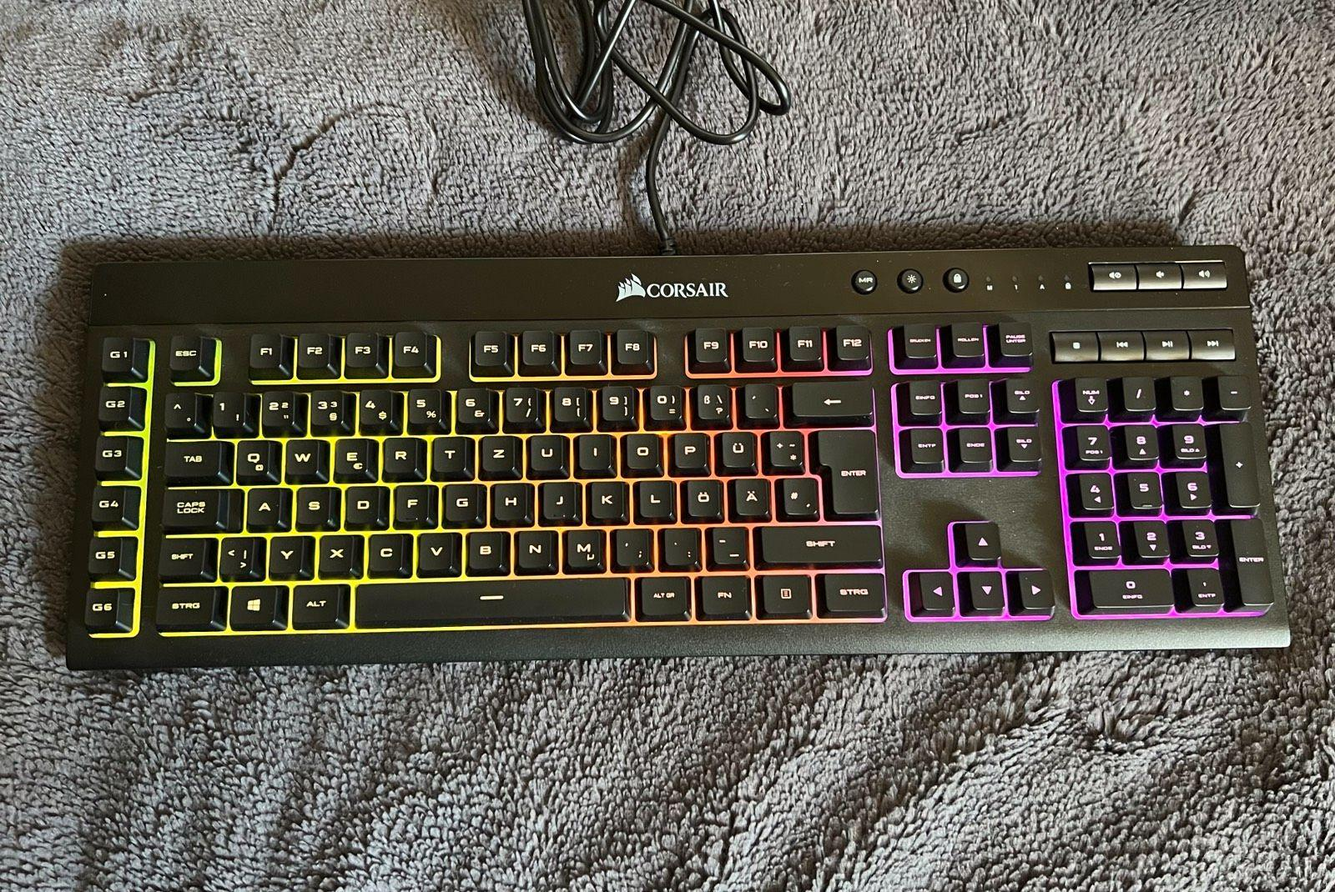0: (645, 382, 684, 420)
1: (209, 388, 244, 428)
2: (259, 384, 295, 429)
3: (309, 383, 345, 429)
4: (356, 383, 393, 428)
5: (405, 383, 441, 426)
6: (455, 383, 491, 425)
7: (502, 382, 540, 423)
8: (550, 381, 588, 424)
9: (597, 379, 636, 422)
a: (244, 484, 283, 528)
accent: (740, 378, 776, 418)
ae: (730, 474, 769, 516)
alt-left: (289, 580, 344, 627)
altgr-right: (635, 573, 691, 617)
b: (463, 527, 507, 570)
c: (365, 529, 406, 572)
caret: (163, 388, 196, 428)
comma: (611, 525, 651, 567)
d: (343, 482, 381, 524)
del: (788, 376, 872, 418)
e: (331, 434, 373, 476)
enter: (811, 423, 878, 515)
f: (392, 481, 431, 523)
g: (441, 480, 481, 522)
h: (490, 479, 530, 520)
hash: (775, 473, 817, 515)
i: (575, 430, 612, 469)
j: (538, 478, 577, 519)
k: (586, 477, 626, 519)
keyboard: (68, 238, 1292, 667)
l: (633, 476, 673, 518)
less: (217, 533, 257, 577)
m: (562, 525, 604, 569)
minus: (705, 523, 747, 565)
n: (513, 526, 557, 569)
o: (622, 430, 661, 469)
oe: (681, 475, 722, 518)
p: (670, 429, 708, 469)
plus: (765, 427, 804, 467)
point: (660, 524, 699, 566)
q: (236, 439, 270, 478)
r: (380, 434, 421, 474)
s: (294, 483, 333, 525)
shift-left: (156, 534, 207, 577)
shift-lock: (159, 485, 223, 529)
shift-right: (755, 521, 881, 564)
space: (353, 574, 627, 624)
ss: (693, 378, 732, 421)
strg-left: (152, 582, 219, 630)
strg-right: (815, 569, 887, 615)
t: (430, 433, 468, 472)
tab: (162, 438, 221, 478)
u: (526, 431, 566, 471)
ue: (717, 428, 756, 468)
v: (416, 529, 456, 571)
w: (284, 438, 322, 476)
x: (317, 531, 355, 573)
y: (267, 532, 303, 574)
z: (478, 432, 516, 472)
